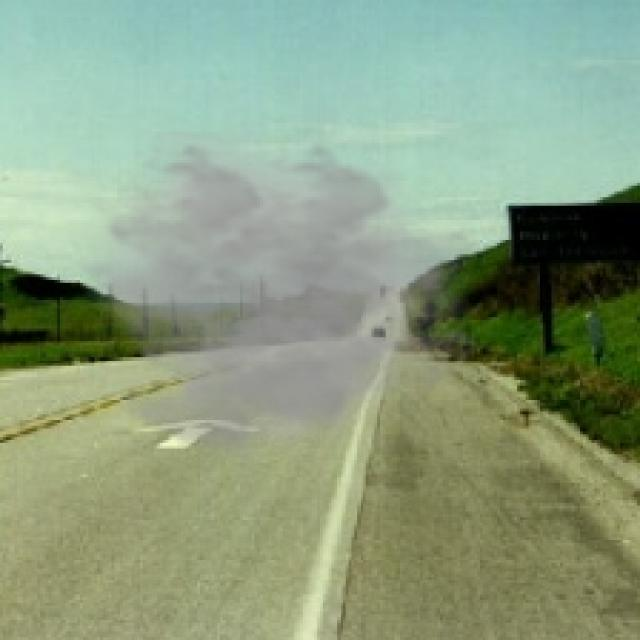smoke: (74, 131, 483, 483)
